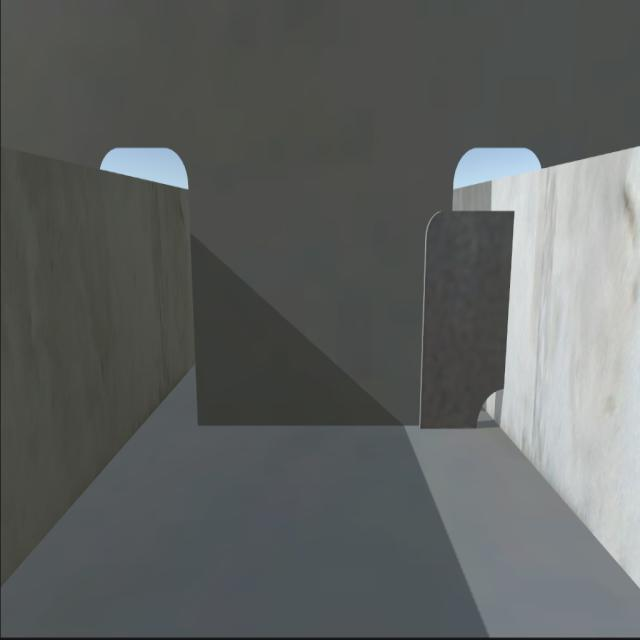fillet_hole: (474, 386, 504, 431)
fillet_yong_jeop_jang: (195, 417, 476, 434)
longi_yong_jeop_jang: (502, 213, 516, 386)
plate_CP05: (424, 206, 509, 422)
